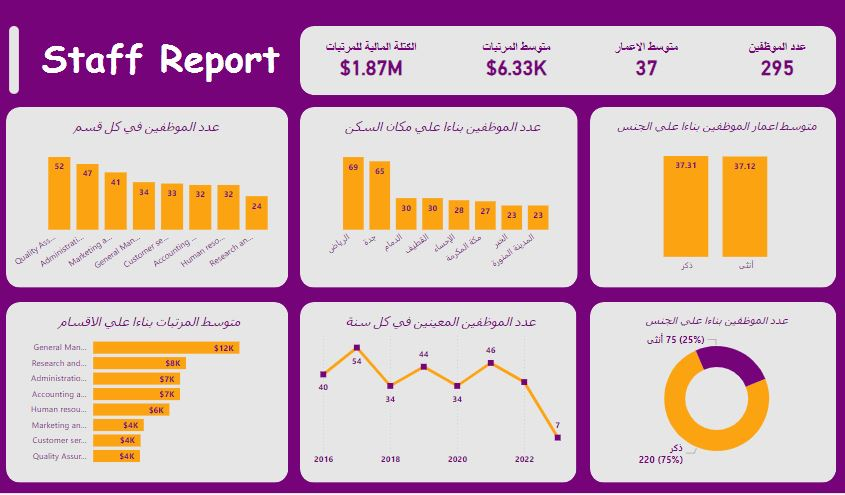

The page's visual inventory and layout, read from the dashboard file:
{"tool":"powerbi","page":{"name":"Page 1","canvas":[1280,720],"ordinal":0},"visuals":[{"type":"shape","box":[38.3,434.4,403.3,258.3],"z":0},{"type":"shape","box":[873.3,155,351.7,258.3],"z":1000},{"type":"shape","box":[459.2,155,396.7,258.3],"z":2000},{"type":"shape","box":[38.3,155,403.3,258.3],"z":3000},{"type":"columnChart","title":"عدد الموظفين في كل قسم","fields":{"Category":["StaffTable.القسم"],"Y":["CountNonNull(StaffTable.القسم)"]},"box":[42.9,171.4,391.4,228.6],"z":4000},{"type":"columnChart","title":"عدد الموظفين بناءا علي مكان السكن","fields":{"Category":["StaffTable.مكان السكن"],"Y":["CountNonNull(StaffTable.مكان السكن)"]},"box":[490.4,171.4,344.3,228.6],"z":5000},{"type":"columnChart","title":"متوسط اعمار الموظفين بناءا علي الجنس","fields":{"Category":["StaffTable.الجنس"],"Y":["Avg(StaffTable.العمر)"]},"box":[896.7,171.7,313.3,228.3],"z":6000},{"type":"barChart","title":"متوسط المرتبات بناءا علي الاقسام","fields":{"Category":["StaffTable.القسم"],"Y":["Avg(StaffTable.المرتب)"]},"box":[57.1,450,372.9,227.1],"z":7000},{"type":"shape","box":[458.3,434.4,395,258.3],"z":8000},{"type":"lineChart","title":"عدد الموظفين المعينين في كل سنة","fields":{"Category":["StaffTable.تاريخ التعيين.Variation.Date Hierarchy.Year"],"Y":["CountNonNull(StaffTable.تاريخ التعيين)"]},"box":[472.9,450,372.9,227.1],"z":9000},{"type":"shape","box":[873.3,434.4,351.7,258.3],"z":10000},{"type":"donutChart","title":"عدد الموظفين بناءا علي الجنس","fields":{"Category":["StaffTable.الجنس"],"Y":["CountNonNull(StaffTable.الجنس)"]},"box":[896.7,449.4,313.3,228.3],"z":11000},{"type":"shape","box":[458.8,40,766.2,98.8],"z":11001},{"type":"card","title":"عدد الموظفين","fields":{"Values":["CountNonNull(StaffTable.اسم الموظف)"]},"box":[1083.8,60.3,112.5,56.2],"z":11002},{"type":"card","title":"متوسط الاعمار","fields":{"Values":["Avg(StaffTable.العمر)"]},"box":[897.5,60.3,112.5,56.2],"z":11003},{"type":"card","title":"متوسط المرتبات","fields":{"Values":["Avg(StaffTable.المرتب)"]},"box":[711.2,60.3,112.5,56.2],"z":11004},{"type":"card","title":"الكتلة المالية للمرتبات","fields":{"Values":["Sum(StaffTable.المرتب)"]},"box":[482.5,60.3,155,56.2],"z":11005},{"type":"textbox","box":[84.3,41.4,390,100],"z":11006},{"type":"shape","box":[14.3,40,71.4,97.1],"z":11008}]}

Visuals, with their boxes in screenshot pixels (x1, y1, x2, y2):
shape: <bbox>3, 300, 285, 480</bbox>
shape: <bbox>587, 104, 833, 285</bbox>
shape: <bbox>297, 104, 575, 285</bbox>
shape: <bbox>3, 104, 285, 285</bbox>
"عدد الموظفين في كل قسم" columnChart: <bbox>6, 116, 280, 276</bbox>
"عدد الموظفين بناءا علي مكان السكن" columnChart: <bbox>319, 116, 560, 276</bbox>
"متوسط اعمار الموظفين بناءا علي الجنس" columnChart: <bbox>603, 116, 823, 276</bbox>
"متوسط المرتبات بناءا علي الاقسام" barChart: <bbox>16, 310, 277, 469</bbox>
shape: <bbox>296, 300, 573, 480</bbox>
"عدد الموظفين المعينين في كل سنة" lineChart: <bbox>307, 310, 568, 469</bbox>
shape: <bbox>587, 300, 833, 480</bbox>
"عدد الموظفين بناءا علي الجنس" donutChart: <bbox>603, 310, 823, 470</bbox>
shape: <bbox>297, 24, 833, 93</bbox>
"عدد الموظفين" card: <bbox>734, 38, 813, 77</bbox>
"متوسط الاعمار" card: <bbox>604, 38, 683, 77</bbox>
"متوسط المرتبات" card: <bbox>473, 38, 552, 77</bbox>
"الكتلة المالية للمرتبات" card: <bbox>313, 38, 422, 77</bbox>
textbox: <bbox>35, 25, 308, 95</bbox>
shape: <bbox>0, 24, 36, 92</bbox>
